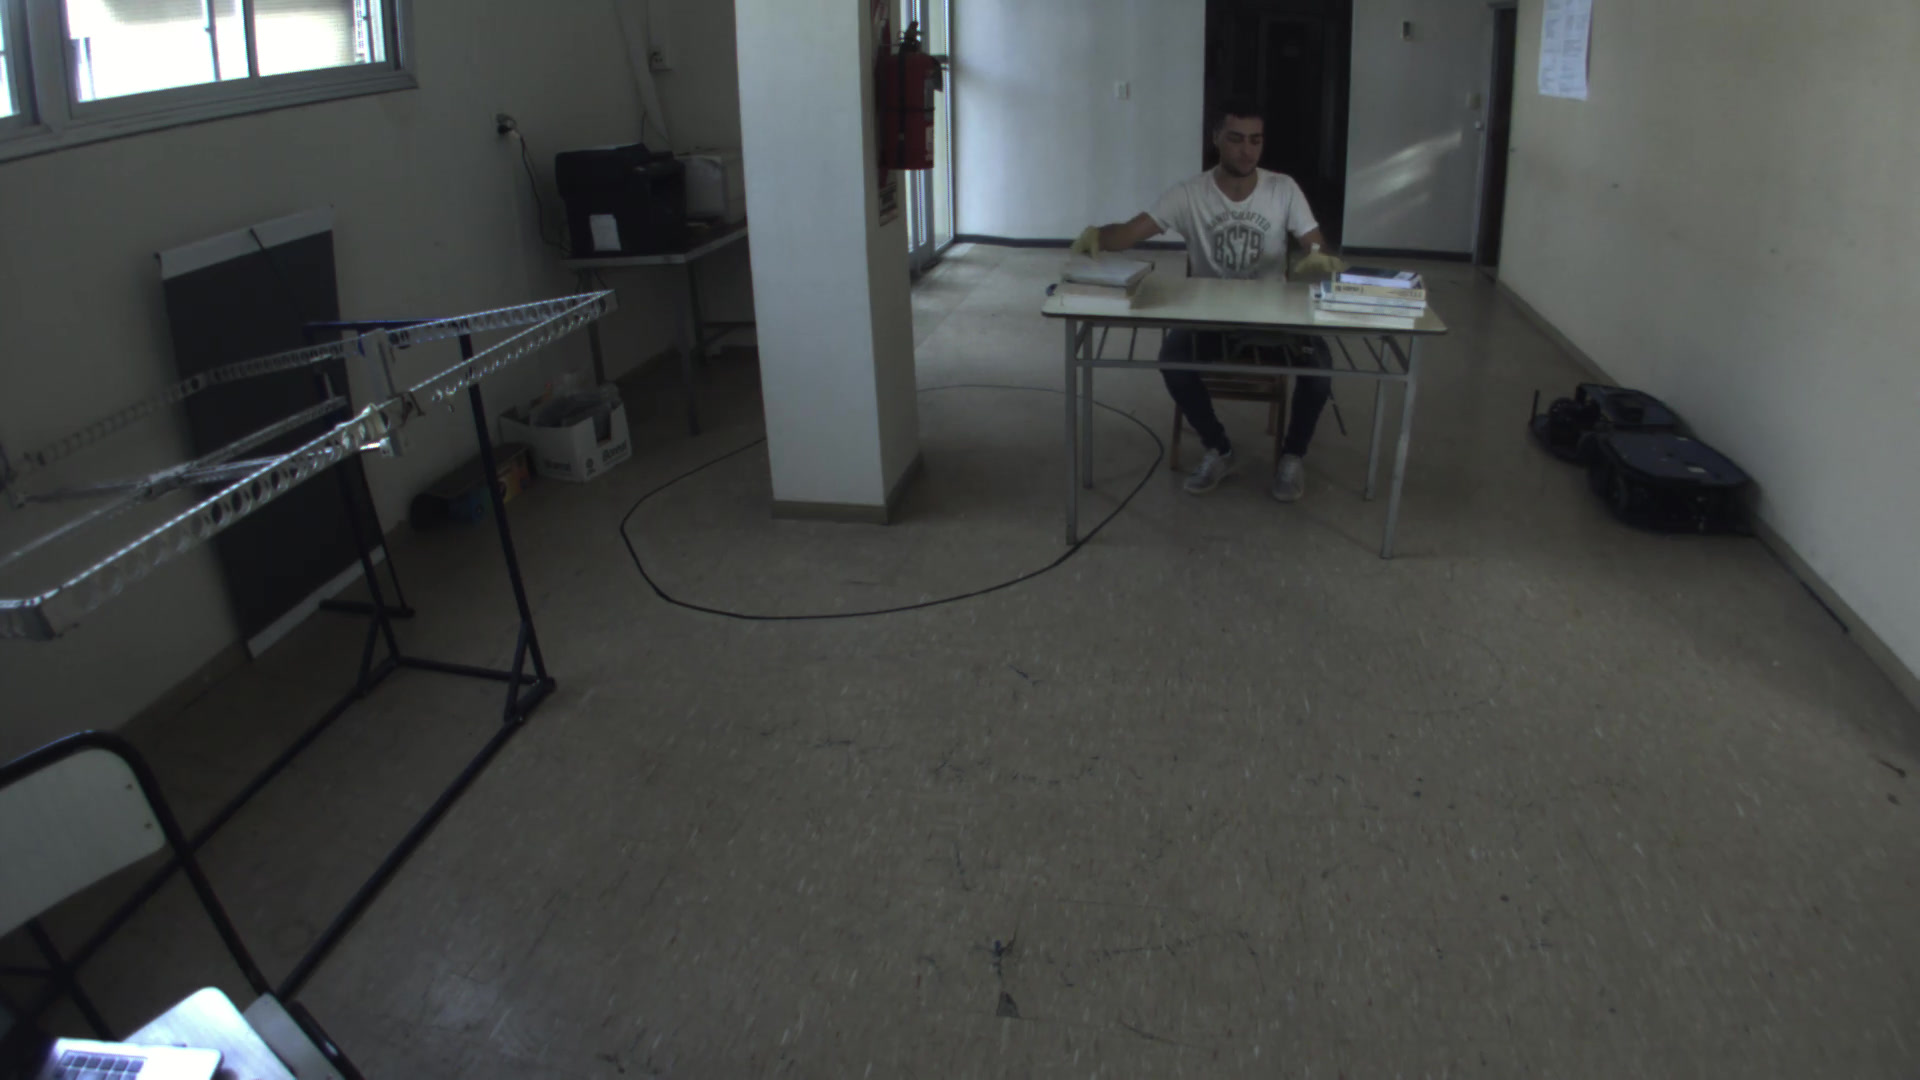hand: (1291, 228, 1342, 287), (1063, 219, 1106, 266)
